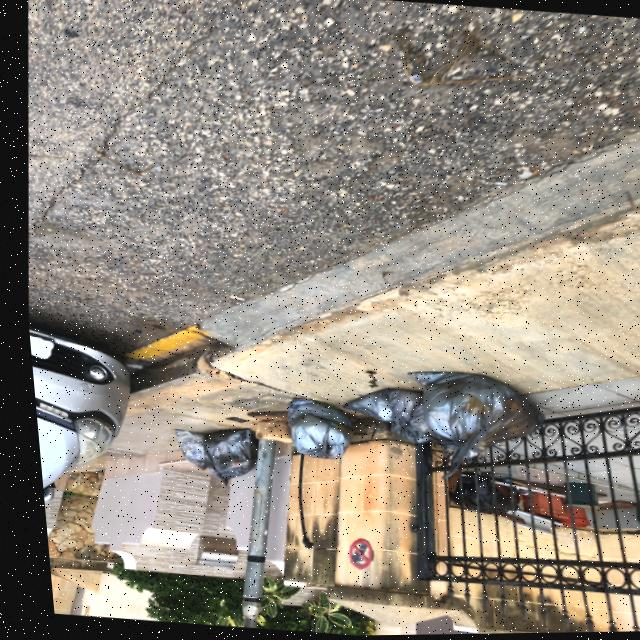Mixed Waste -Black Bag-: (390, 366, 546, 491), (330, 384, 431, 446), (275, 397, 347, 463), (194, 425, 255, 490), (163, 429, 203, 471)
